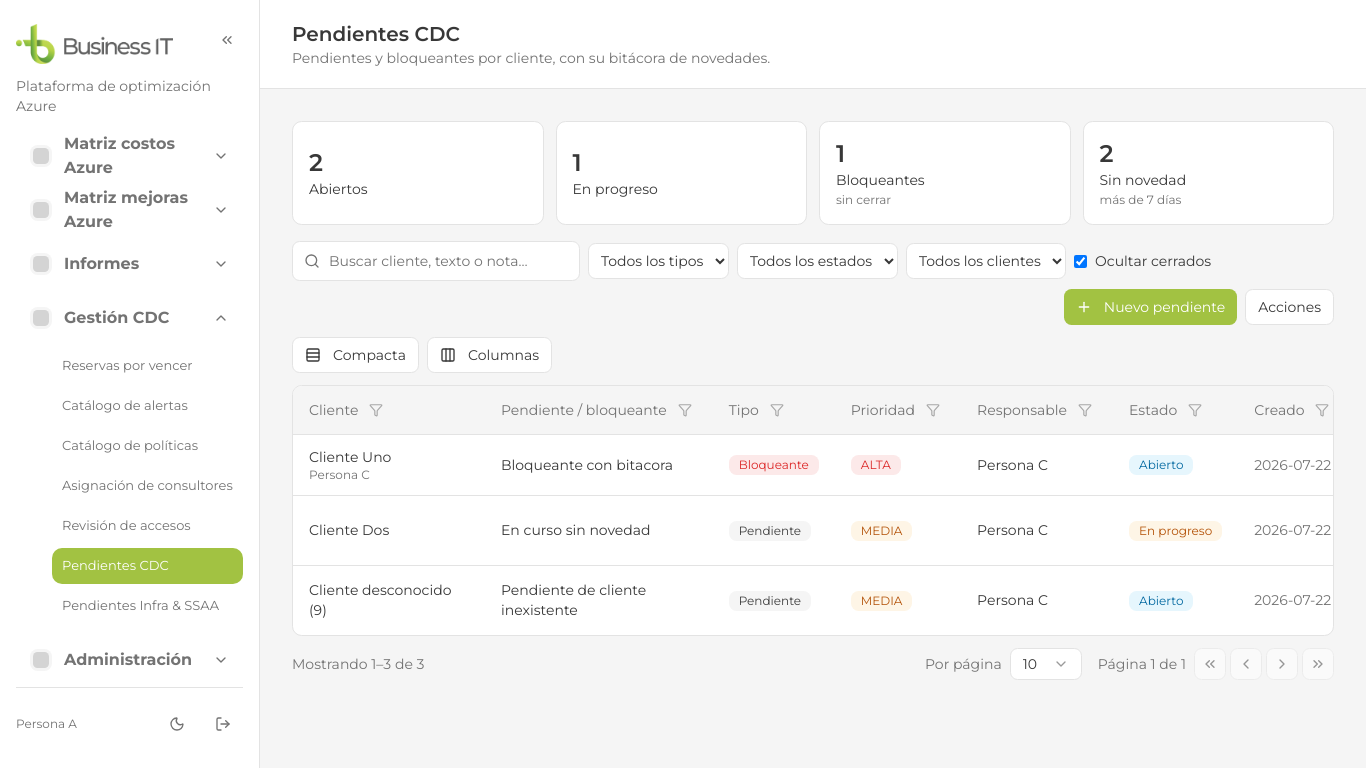
Scenario: muestra los KPIs del area y oculta los cerrados por defecto
Expected: the text "Bloqueante con bitacora" is shown, [501, 454, 697, 474]
Expected: the 1st text "2" is shown, [309, 148, 323, 177]
Click the checkbox labelled "Ocultar cerrados".
click(1080, 261)  # box [1074, 254, 1087, 268]
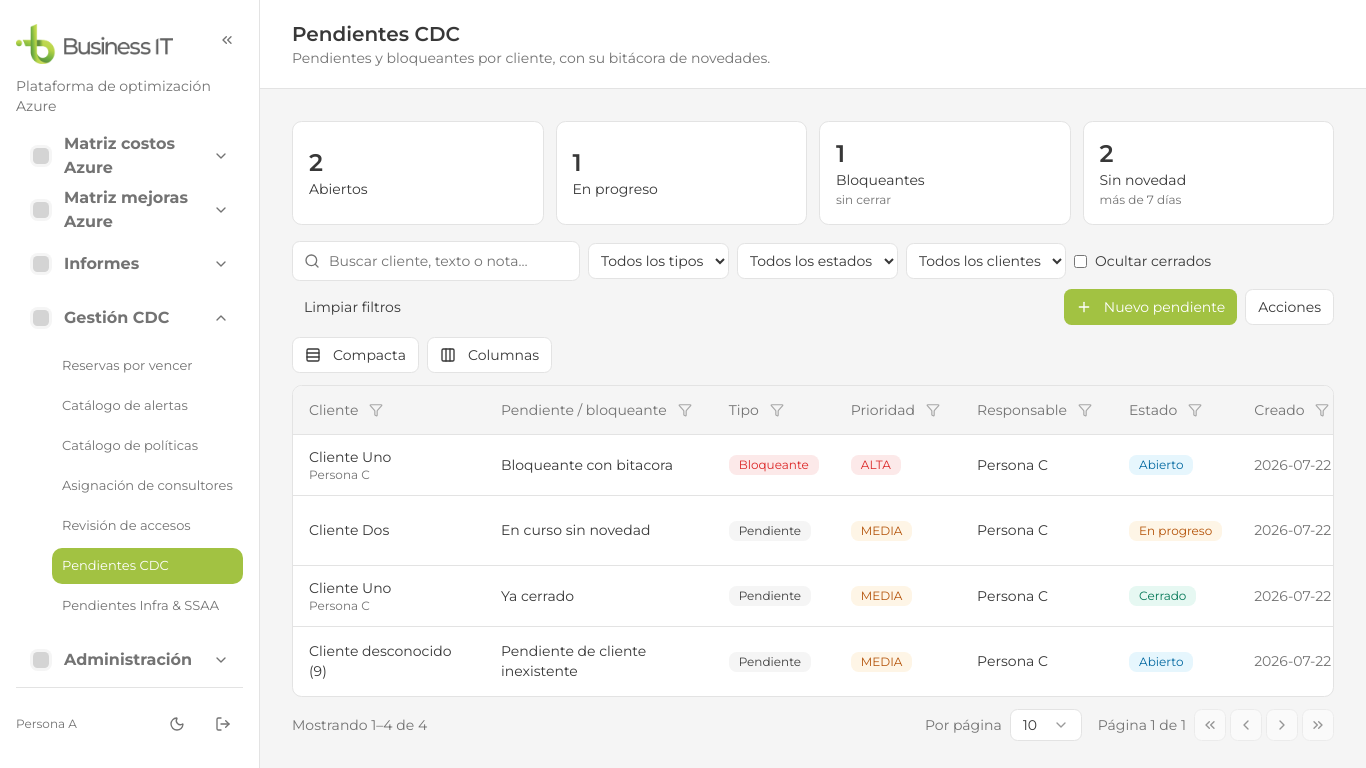
Expected: the text "Ya cerrado" is shown, [501, 586, 574, 604]
